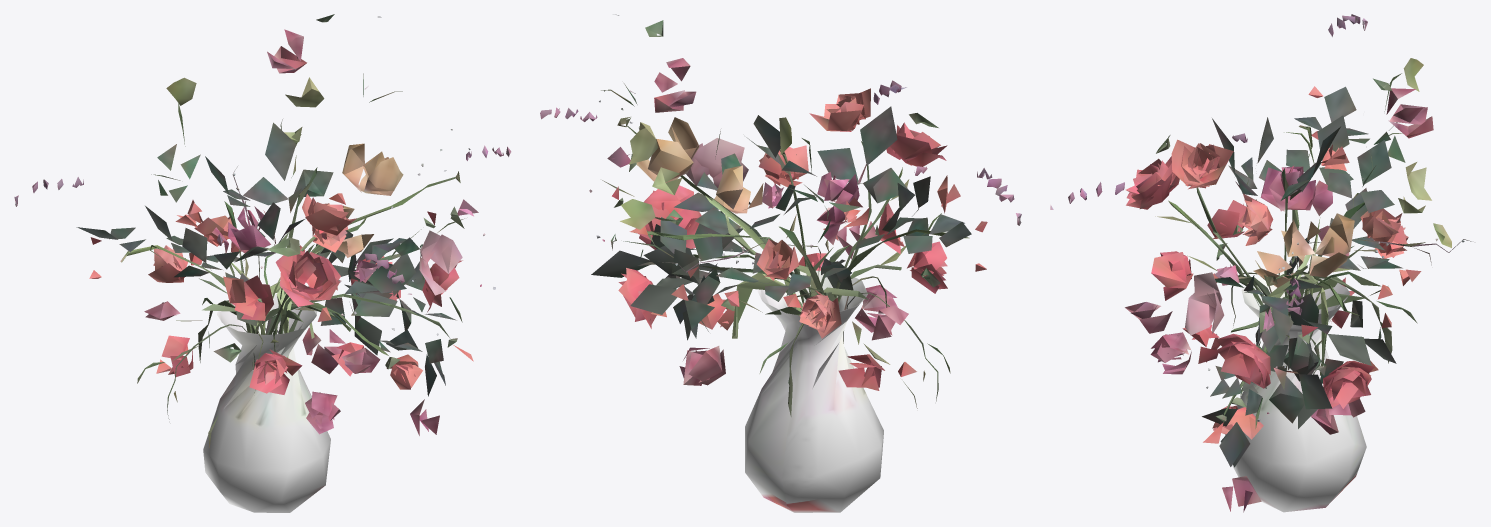
Rendered from Vase0015.obj.
3 views of the same model, side by side, from view 1: azimuth 30°, elevation 25°; view 2: azimuth 150°, elevation 25°; view 3: azimuth 270°, elevation 25° (orthographic). The views are drawn at different scales.
Size of the model in its own units: 0.912 by 0.817 by 0.671.
Materials: 1 (1 with a texture image).
